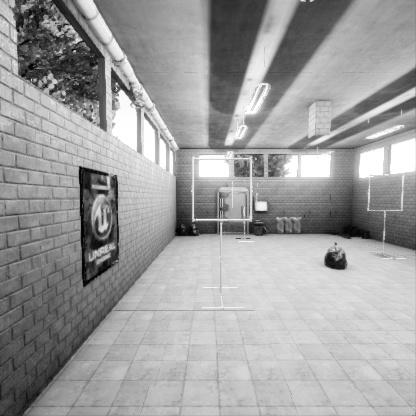gate: (193, 197, 255, 260), (371, 206, 410, 243), (232, 209, 259, 236)
